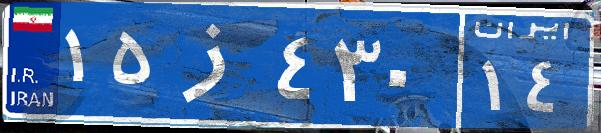0: (385, 28, 445, 110)
1: (57, 26, 110, 107), (475, 38, 525, 113)
3: (330, 28, 385, 110)
4: (273, 28, 330, 110), (525, 38, 570, 115)
5: (110, 28, 158, 105)
ز: (158, 15, 273, 115)
